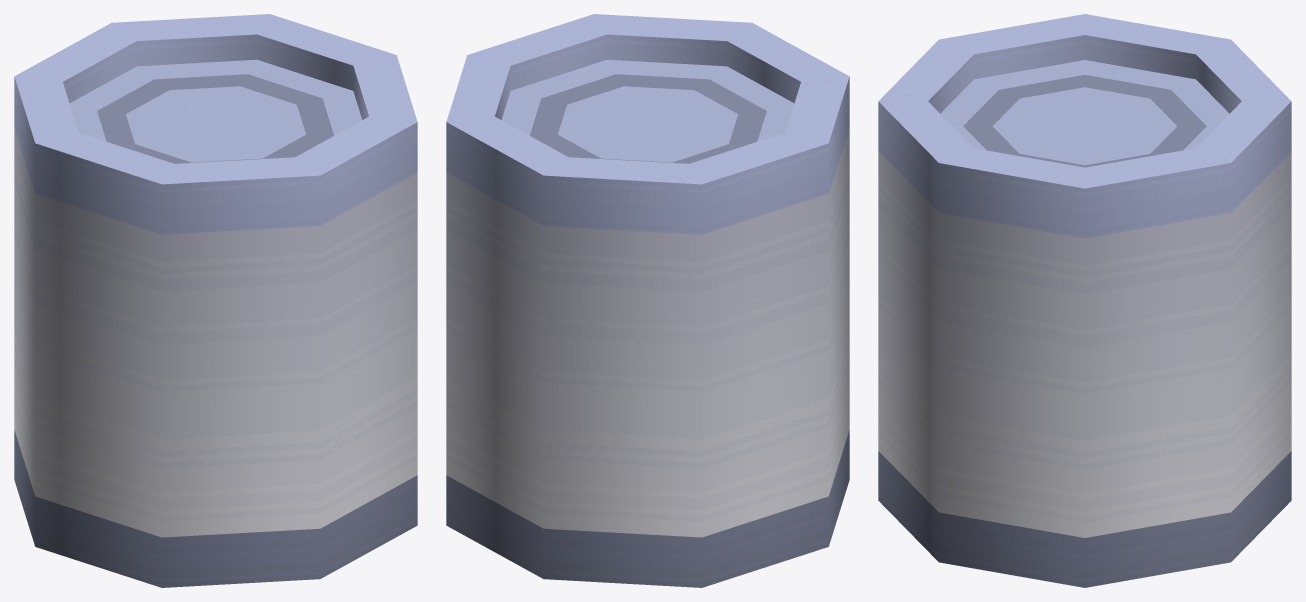
The model's file is can-empty.glb.
3 views of the same model, side by side, from view 1: azimuth 30°, elevation 25°; view 2: azimuth 150°, elevation 25°; view 3: azimuth 270°, elevation 25° (orthographic).
Visible parts, largest first — view 1: can; view 2: can; view 3: can.
Part boxes in pixels (x1=…): can: x1=14, y1=14, x2=417, y2=587; can: x1=446, y1=14, x2=849, y2=587; can: x1=878, y1=14, x2=1291, y2=587.
Size of the model in its own units: 0.3 by 0.32 by 0.3.
Materials: 1 (1 with a texture image).
